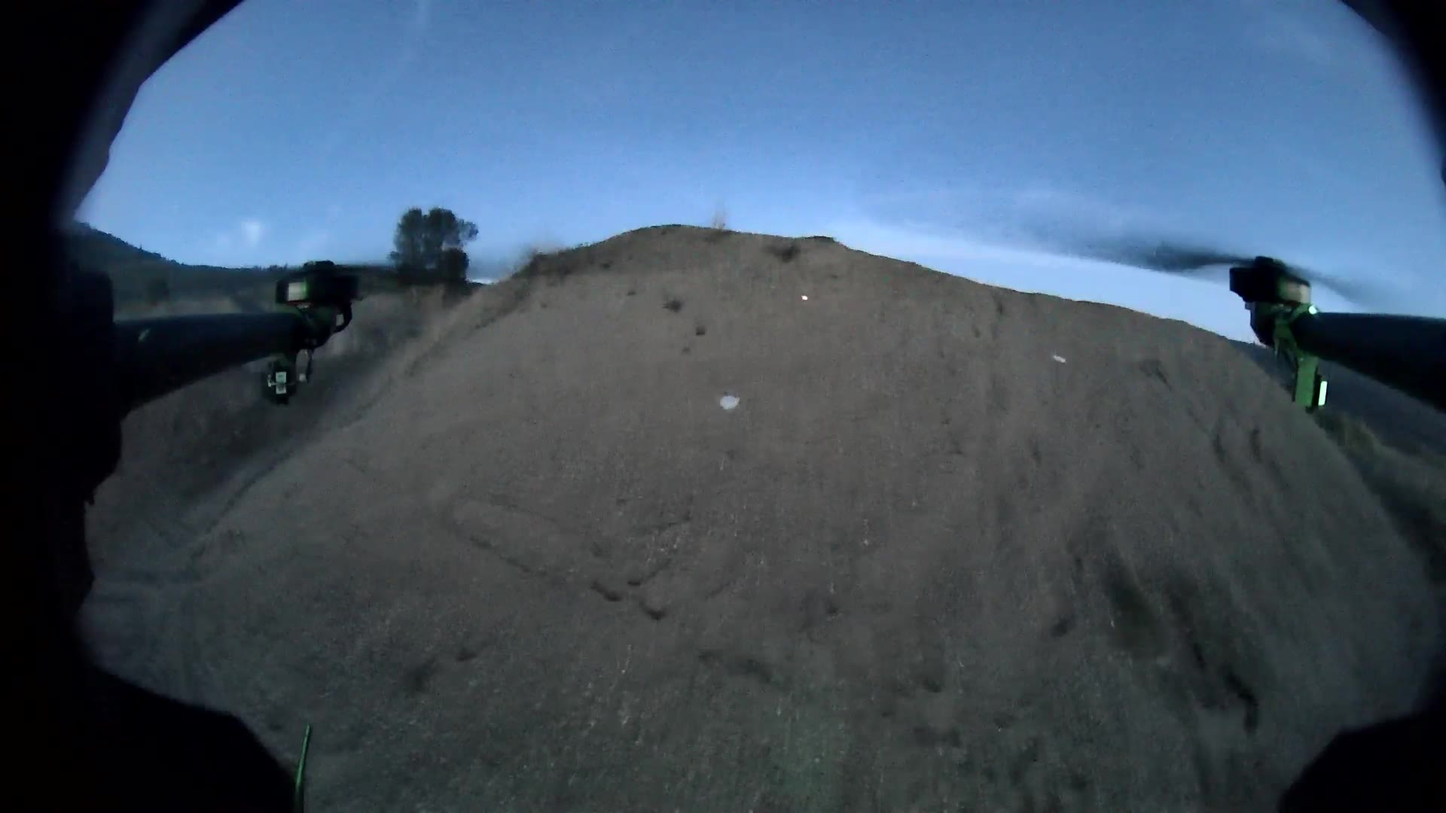Target: (719, 394, 739, 410)
